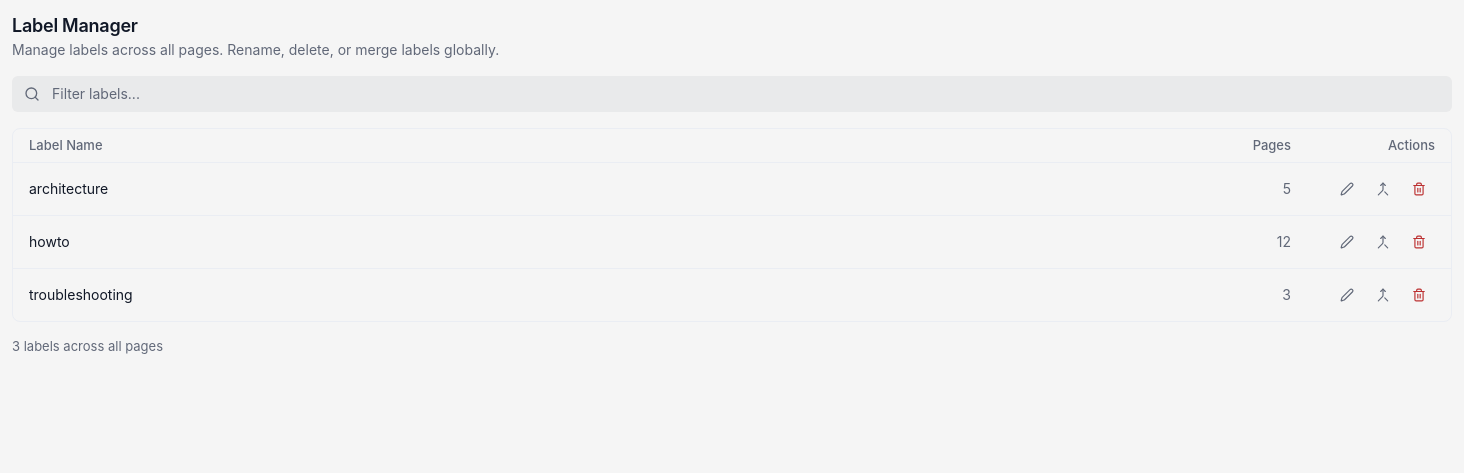
Test: LabelManager › shows merge dialog when merge button is clicked
Click the button with test id "merge-architecture" at (1383, 189), box [1367, 173, 1399, 205]
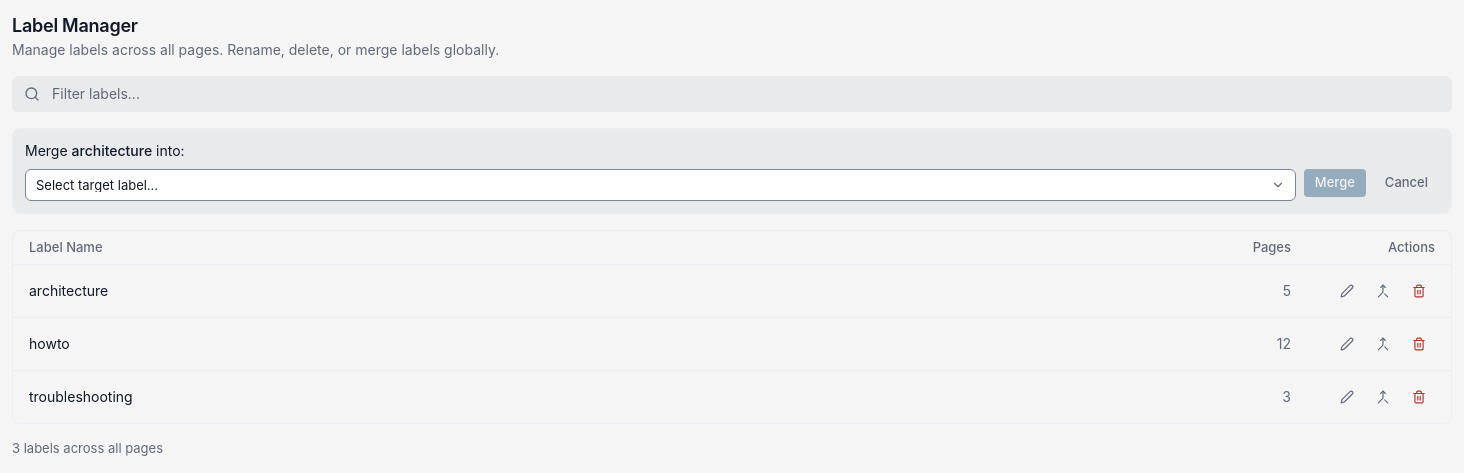
Result: the element with test id "merge-dialog" is shown at [12, 128, 1452, 214]
Result: the dropdown with test id "merge-target-select" is shown at [25, 169, 1296, 201]
